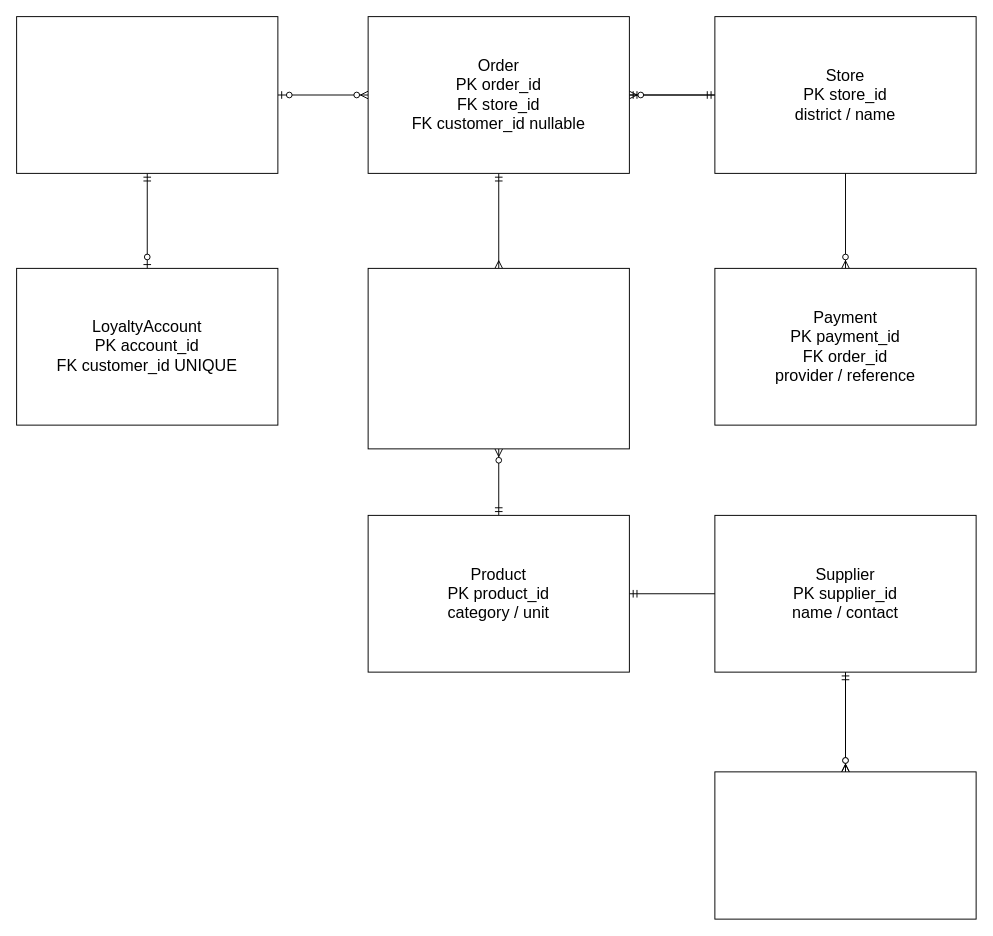
Image size: 993x936. Some labels were removed from this diagram. The shapes that lost their labels are listed below. From the top down, each one's centre as x and y in pixels, then its label:
At [147,94]: "Customer PK customer_id name / phone / email".
At [498,358]: "OrderLine PK/FK order_id PK line_no FK product_id qty / unit_price".
At [845,845]: "ProductSupplier PK/FK product_id PK/FK supplier_id supplier_sku".
